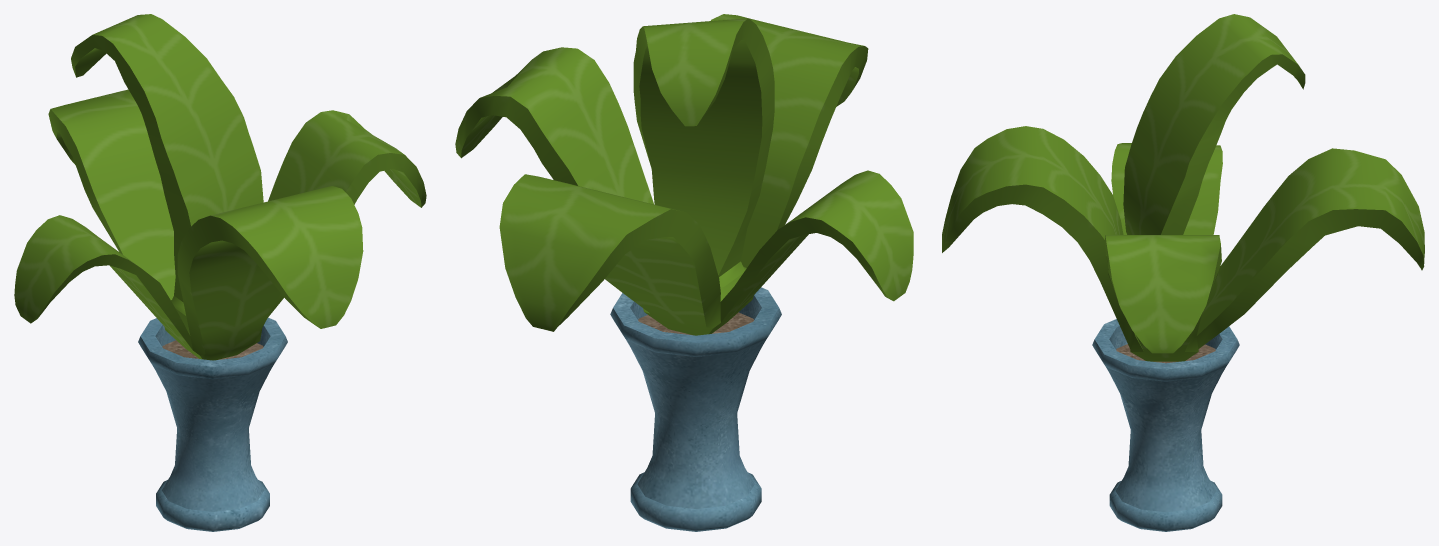
The model's file is FloorPlant_3.glb.
3 views of the same model, side by side, from view 1: azimuth 30°, elevation 25°; view 2: azimuth 150°, elevation 25°; view 3: azimuth 270°, elevation 25° (orthographic). The views are drawn at different scales.
Visible parts, largest first — view 1: 3_Leaves, 3_Pot; view 2: 3_Leaves, 3_Pot; view 3: 3_Leaves, 3_Pot.
Part boxes in pixels (bbox=[...]): 3_Leaves: bbox=[14, 14, 426, 360]; 3_Pot: bbox=[138, 317, 287, 531]; 3_Leaves: bbox=[455, 14, 913, 335]; 3_Pot: bbox=[610, 287, 781, 531]; 3_Leaves: bbox=[942, 14, 1424, 361]; 3_Pot: bbox=[1092, 319, 1239, 531].
Bounding box in the file's own units: 1.46 × 1.7 × 1.62.
1 material, 1 textured.
